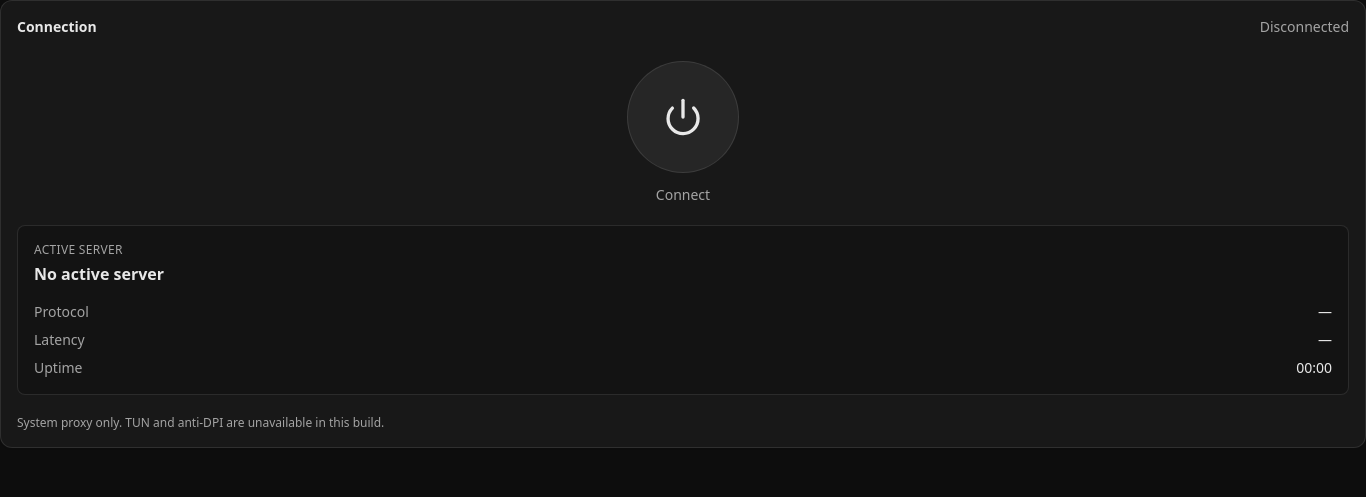
Scenario: ConnectionPanel › connects with no selected profile and renders connection-state events
The width and height of the screenshot is (1366, 497).
Click the button named "Connect". click: (683, 117)
box: [627,61,739,173]
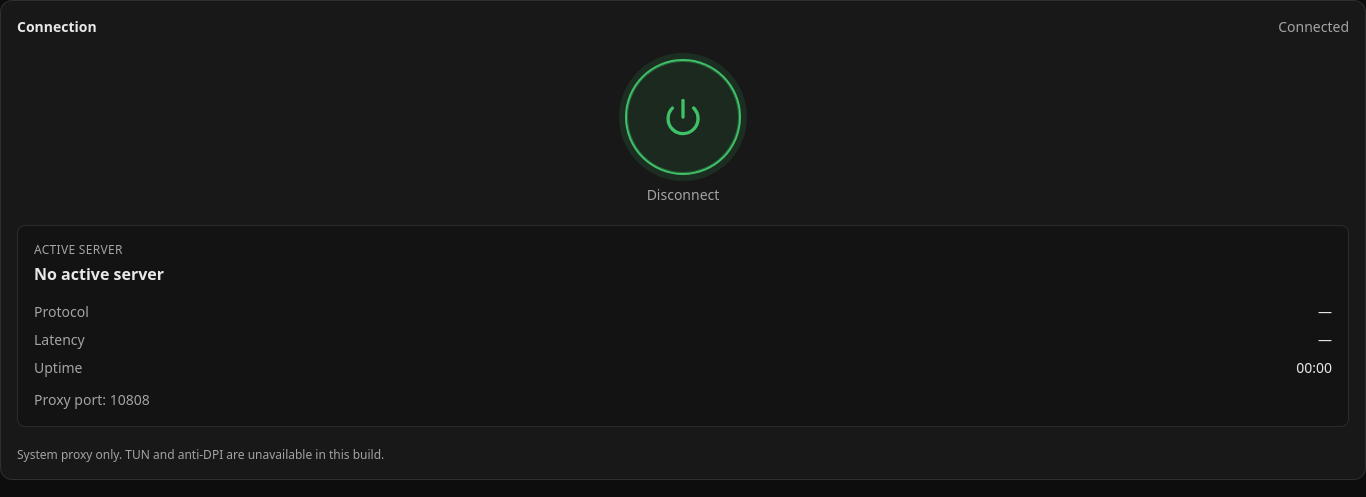
Expected: the text "Connected" is shown, [1278,17,1349,37]
Result: the text "Proxy port: 10808" is shown at [34,390,150,409]
